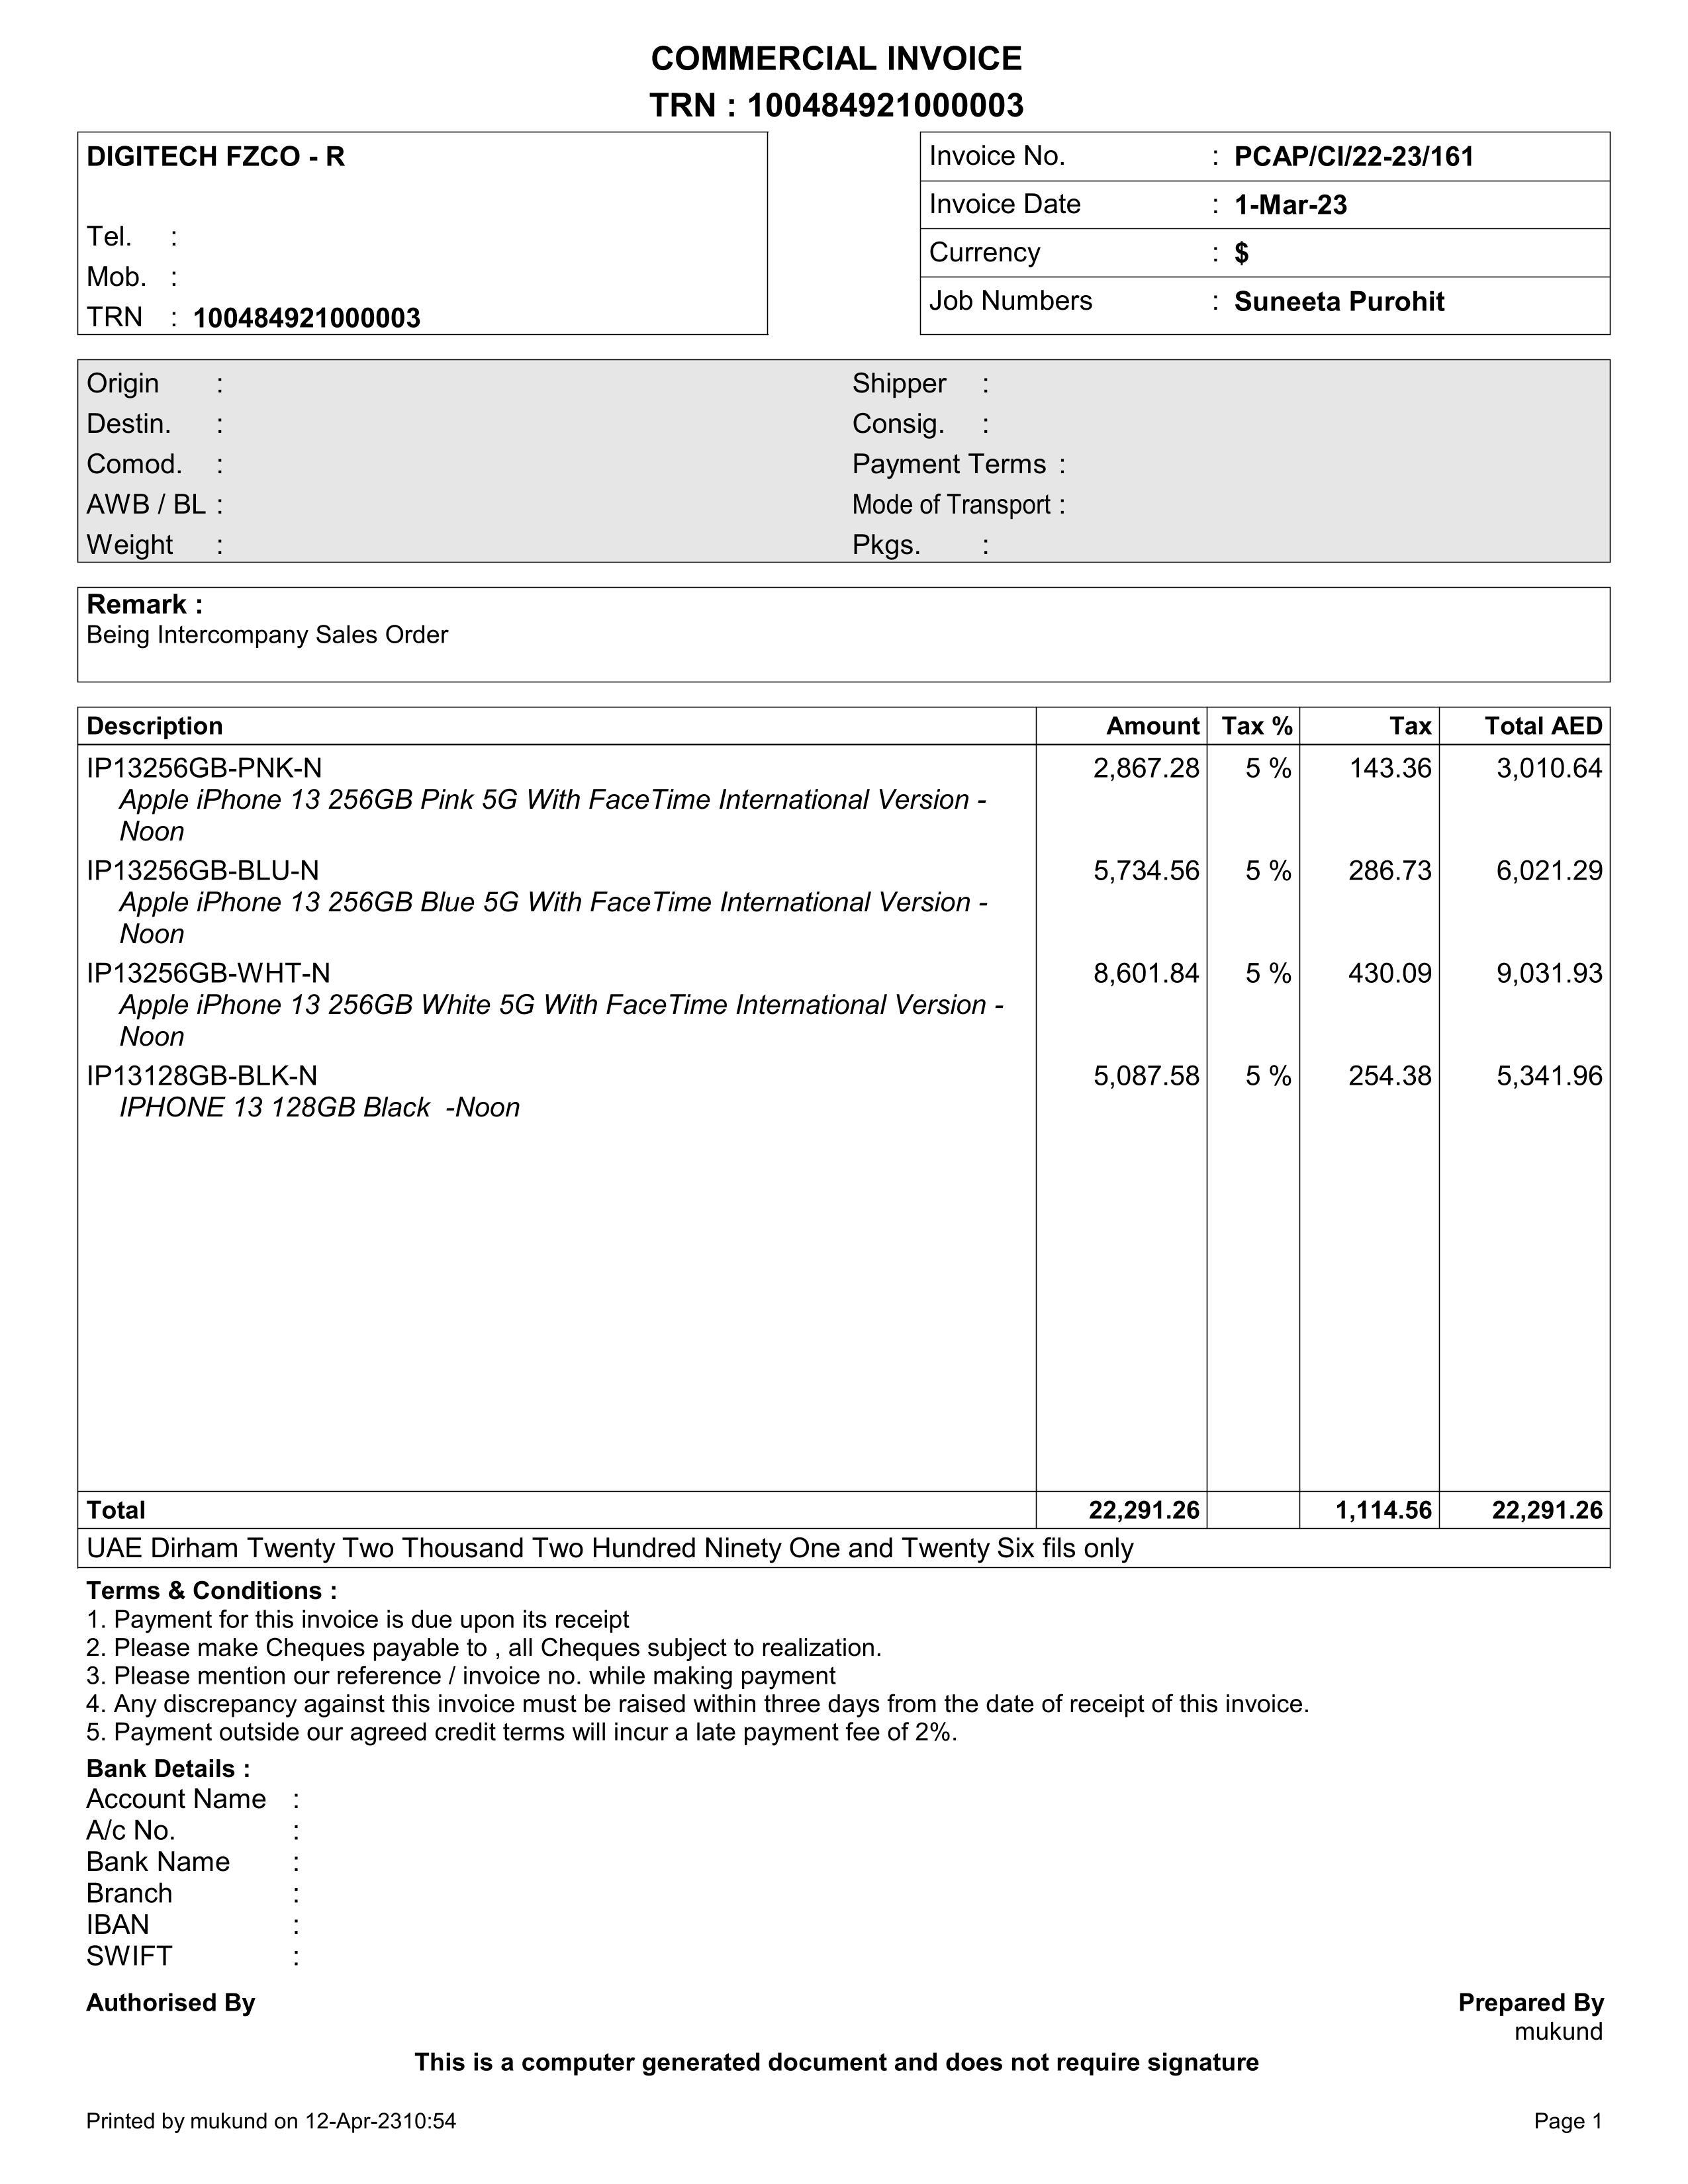InvoiceDate: (1229, 186, 1356, 225)
InvoiceNumber: (1229, 136, 1488, 177)
TotalAmount: (1488, 1489, 1614, 1528)
